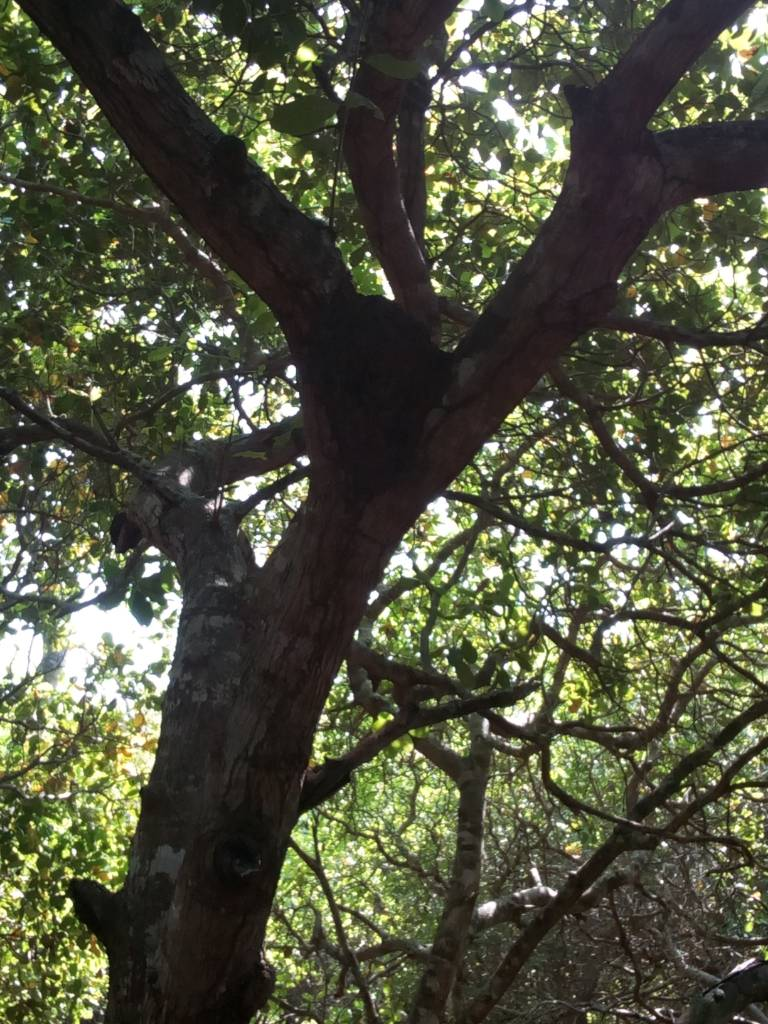Termites: (305, 294, 440, 508)
